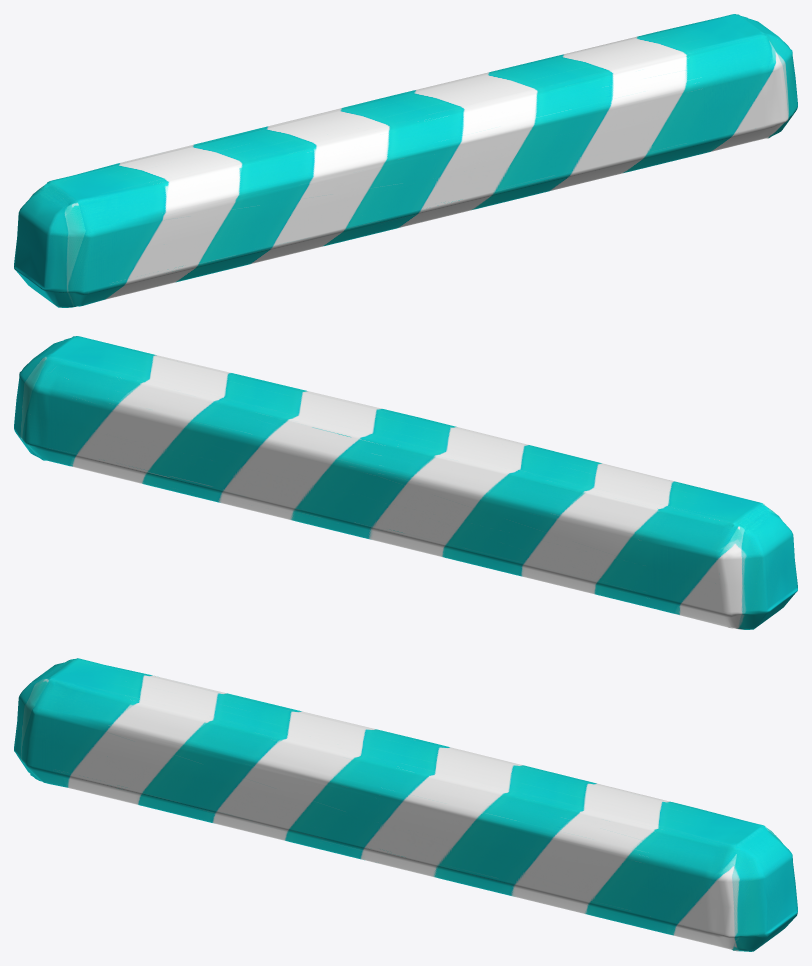
Rendered from obstacle-oscillate.glb.
3 renders of one model, top to bottom at view 1: azimuth 30°, elevation 25°; view 2: azimuth 150°, elevation 25°; view 3: azimuth 330°, elevation 25°, orthographic.
Bounding box in the file's own units: 1.91 × 0.2544 × 0.2466.
Materials: 1 (1 with a texture image).
